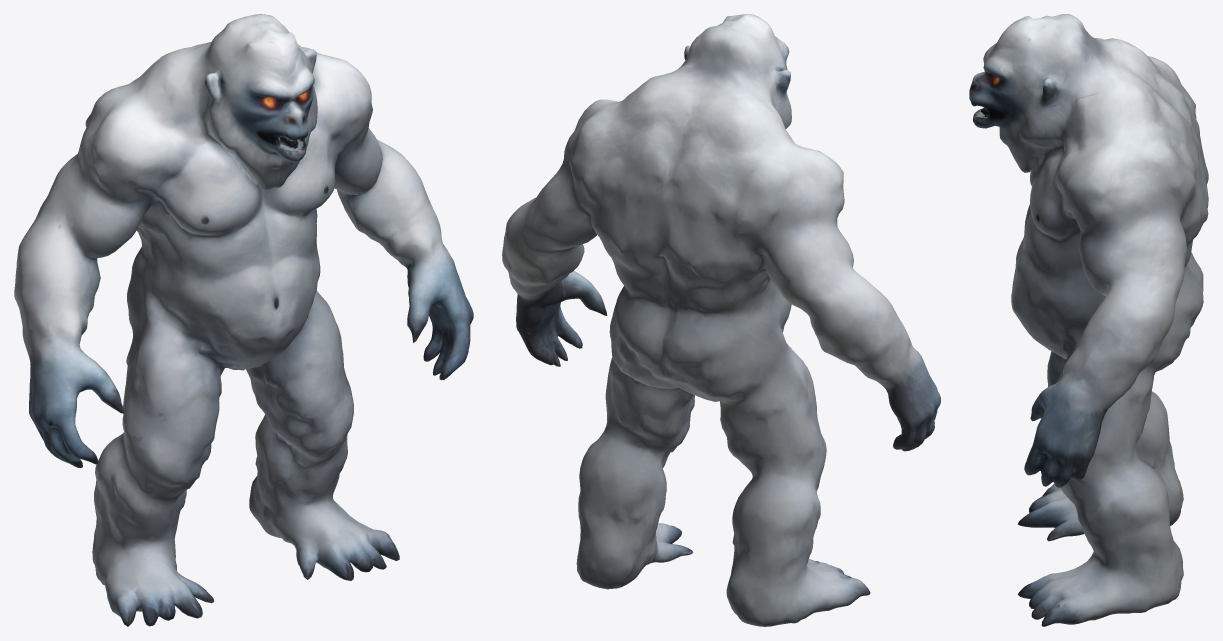
3 views of the same model, side by side, from view 1: azimuth 30°, elevation 25°; view 2: azimuth 150°, elevation 25°; view 3: azimuth 270°, elevation 25° (orthographic). The views are drawn at different scales.
Parts seen in each view (by area): view 1: node_e17ea95c_9536_4222_9d7c_a38bf0188d0c_mesh0; view 2: node_e17ea95c_9536_4222_9d7c_a38bf0188d0c_mesh0; view 3: node_e17ea95c_9536_4222_9d7c_a38bf0188d0c_mesh0.
Part boxes in pixels (<box>): node_e17ea95c_9536_4222_9d7c_a38bf0188d0c_mesh0: <box>14,14,473,626</box>; node_e17ea95c_9536_4222_9d7c_a38bf0188d0c_mesh0: <box>502,14,940,626</box>; node_e17ea95c_9536_4222_9d7c_a38bf0188d0c_mesh0: <box>969,14,1208,626</box>.
Size of the model in its own units: 156 by 197 by 78.29.
1 material, 1 textured.
